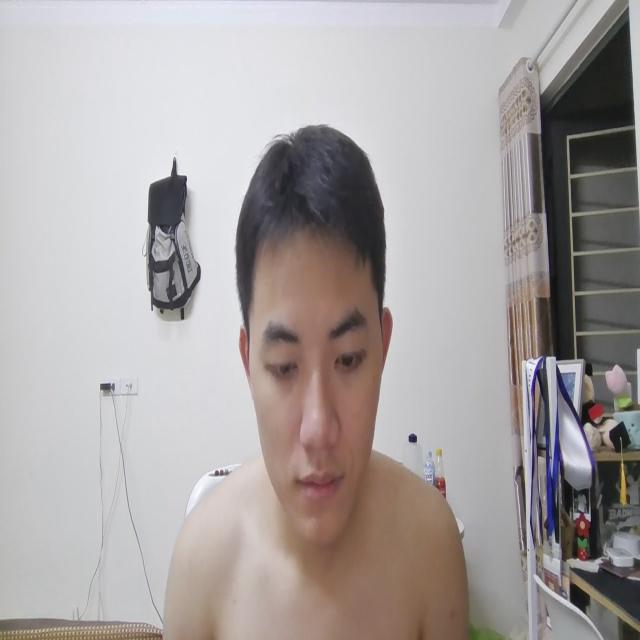student: (154, 117, 468, 640)
